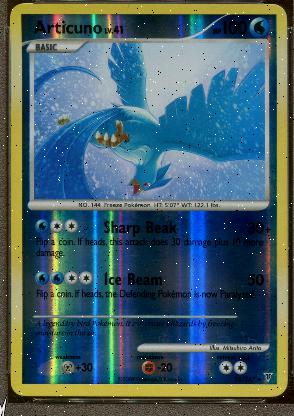Card: (8, 1, 288, 398)
